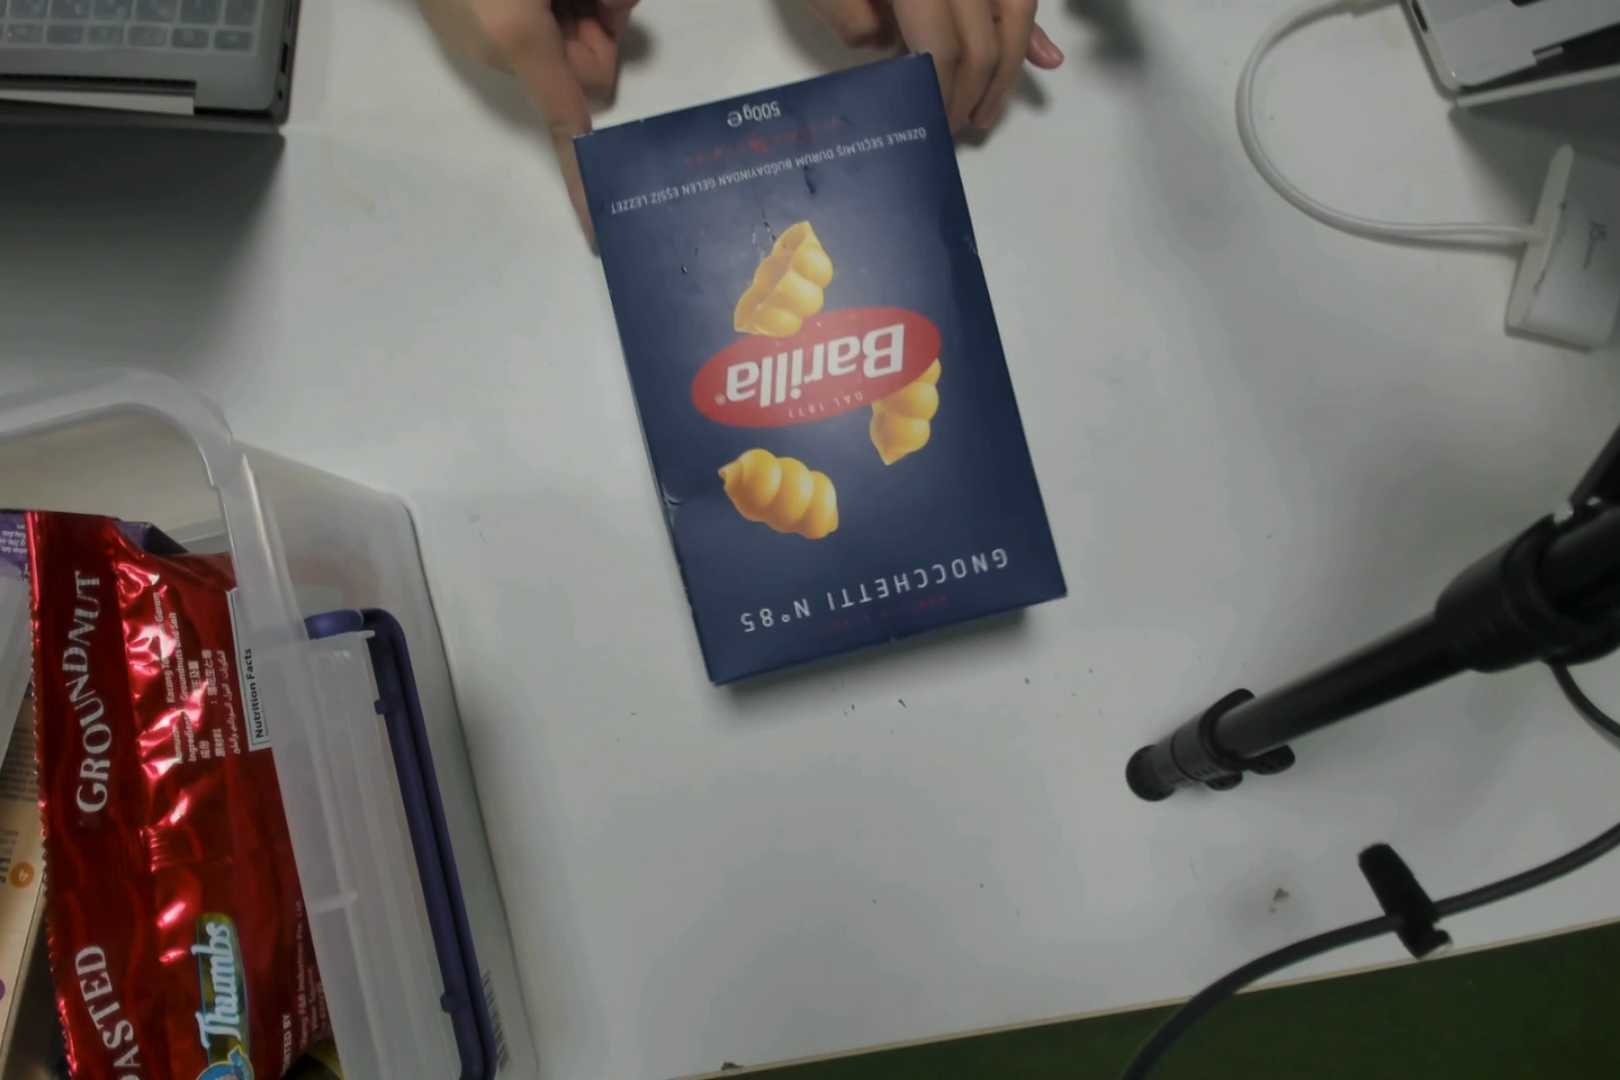Pasta_500-599g_NonHalal_NonHealthy: (627, 113, 1034, 658)
